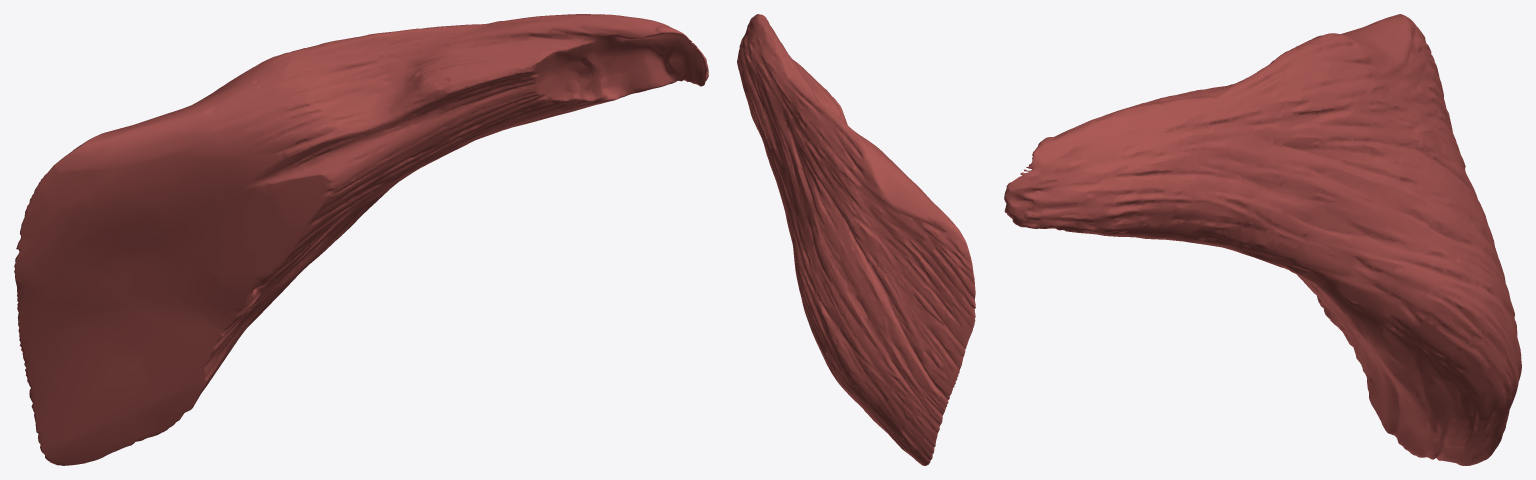
File: FMA32548.glb
3 renders of one model, left to right at view 1: azimuth 30°, elevation 25°; view 2: azimuth 150°, elevation 25°; view 3: azimuth 270°, elevation 25°, orthographic. The views are drawn at different scales.
Visible parts, largest first — view 1: FMA32548; view 2: FMA32548; view 3: FMA32548.
Boxes of the visible parts, bbox=[...] form: FMA32548: bbox=[14, 14, 708, 465]; FMA32548: bbox=[737, 14, 975, 465]; FMA32548: bbox=[1004, 14, 1521, 465].
Size of the model in its own units: 0.1282 by 0.1099 by 0.0887.
